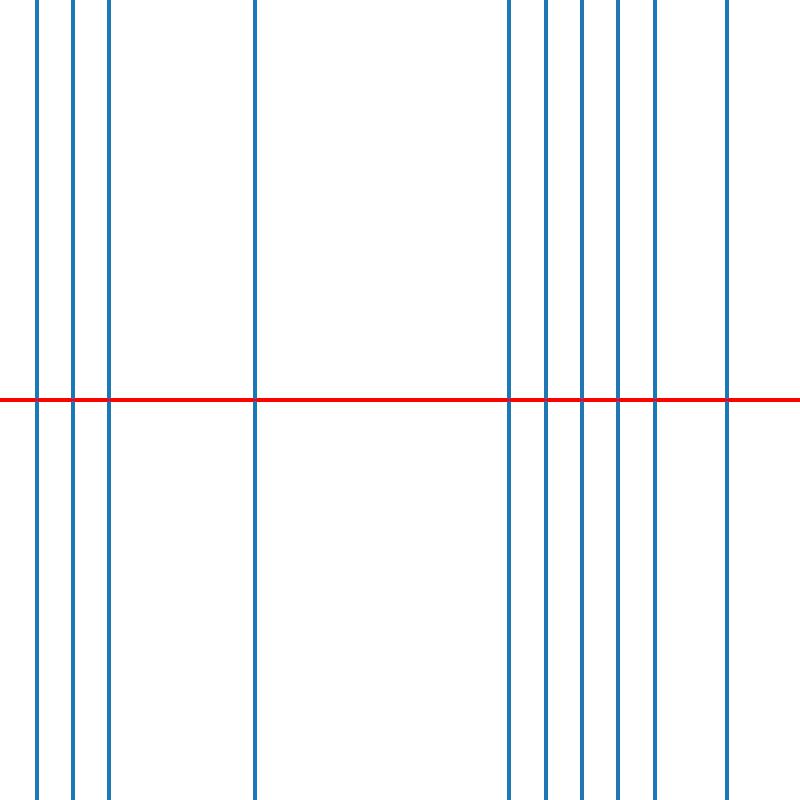root: (650, 396, 658, 404), (32, 396, 40, 404), (541, 396, 549, 404), (250, 396, 258, 404), (69, 396, 76, 404), (105, 396, 112, 404), (614, 396, 621, 404), (723, 396, 730, 404), (578, 396, 585, 404), (505, 396, 512, 404)
